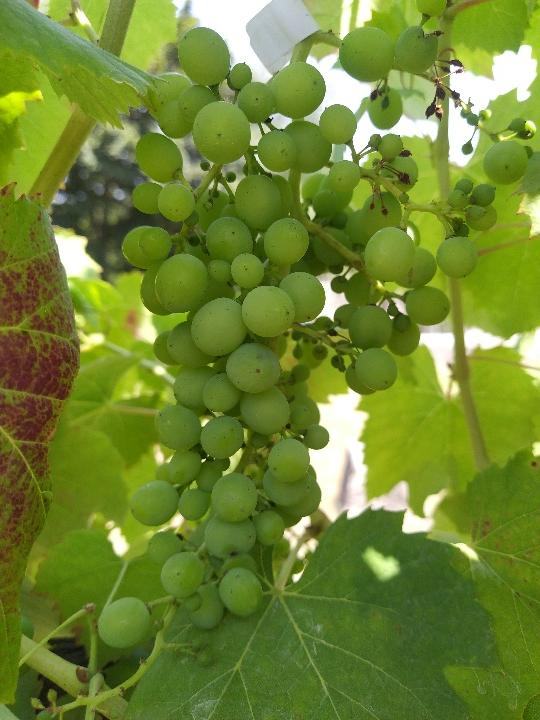grape: (95, 26, 532, 655)
